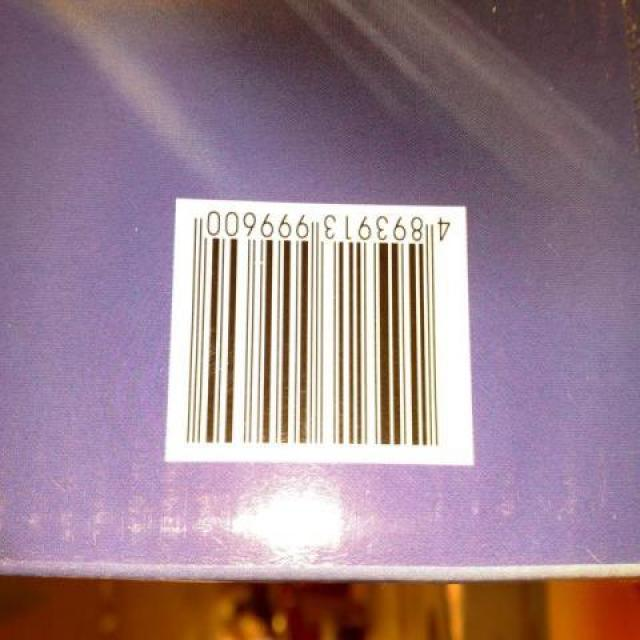Barcode: (162, 197, 479, 467)
